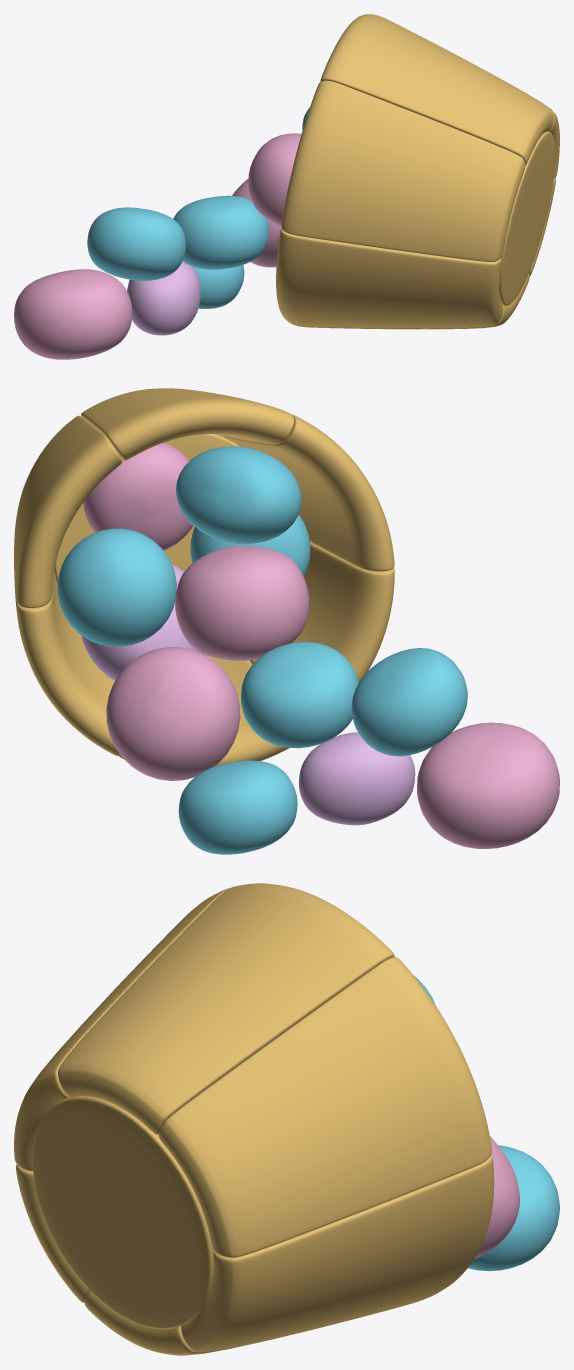
Rendered from DGLXX_blueberry.fbx.
3 views of the same model, one above another, from view 1: azimuth 30°, elevation 25°; view 2: azimuth 150°, elevation 25°; view 3: azimuth 270°, elevation 25° (orthographic). The views are drawn at different scales.
Visible parts, largest first — view 1: group2_2, group2_3, group2_6, group_3_1, group_3_2, group5_3, pCylinder7, group4_1, group_3_3, group5_4, group_3_5, group2_4; view 2: group_3_1, group_3_5, group_3_3, group_3_4, group2_2, group2_1, group5_3, group_3_2, group4_3, group2_6, group5_4, group2_3 (+7 smaller); view 3: group2_1, group2_6, pCylinder7, group2_5, group5_4, group2_2, group2_4, group_3_5, group2_3.
Boxes of the visible parts, x1,y1,x2,y2 form: group2_2: [281, 80, 525, 261]; group2_3: [276, 229, 503, 328]; group2_6: [320, 14, 553, 164]; group_3_1: [14, 269, 132, 359]; group_3_2: [87, 207, 185, 280]; group5_3: [173, 195, 268, 269]; pCylinder7: [499, 131, 555, 305]; group4_1: [127, 261, 200, 335]; group_3_3: [248, 133, 301, 226]; group5_4: [193, 265, 244, 308]; group_3_5: [232, 179, 281, 267]; group2_4: [293, 273, 529, 329]; group_3_1: [417, 722, 559, 848]; group_3_5: [106, 647, 240, 780]; group_3_3: [175, 546, 309, 660]; group_3_4: [57, 528, 176, 646]; group2_2: [223, 414, 394, 571]; group2_1: [14, 415, 122, 607]; group5_3: [241, 642, 358, 748]; group_3_2: [351, 648, 467, 756]; group4_3: [176, 446, 301, 543]; group2_6: [81, 388, 294, 460]; group5_4: [178, 760, 297, 854]; group2_3: [249, 542, 394, 682]; group2_1: [158, 957, 491, 1257]; group2_6: [58, 883, 394, 1134]; pCylinder7: [32, 1096, 214, 1329]; group2_5: [181, 1155, 494, 1352]; group5_4: [468, 1145, 559, 1271]; group2_2: [14, 888, 229, 1171]; group2_4: [84, 1290, 406, 1355]; group_3_5: [474, 1136, 519, 1258]; group2_3: [16, 1164, 89, 1302].
Size of the model in its own units: 425 by 250 by 289.
